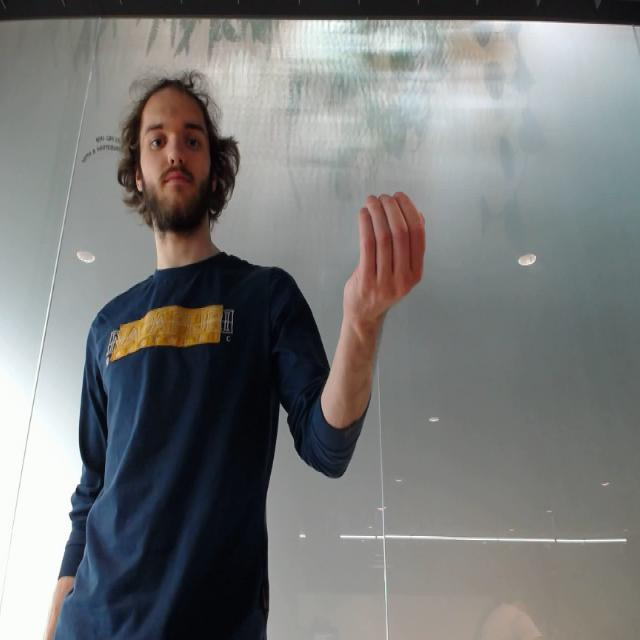forward: (337, 188, 438, 330)
